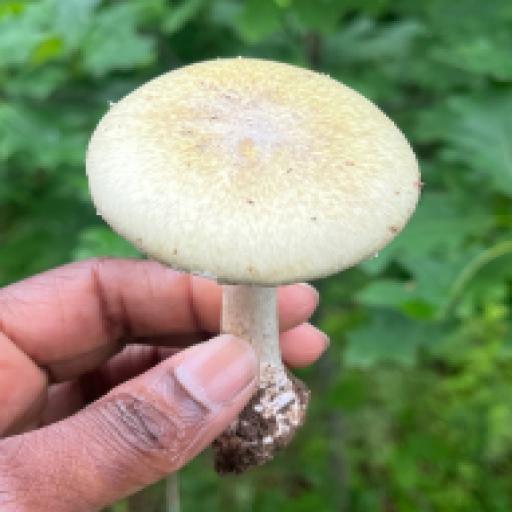mushroom: (49, 0, 508, 483)
